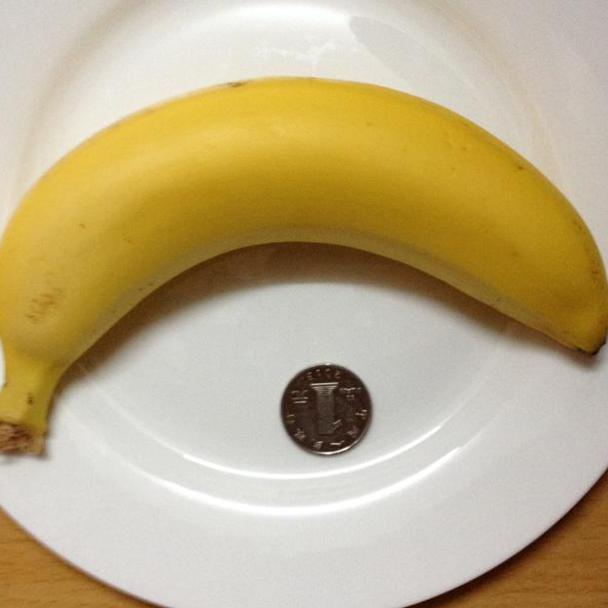banana: (4, 76, 608, 452)
